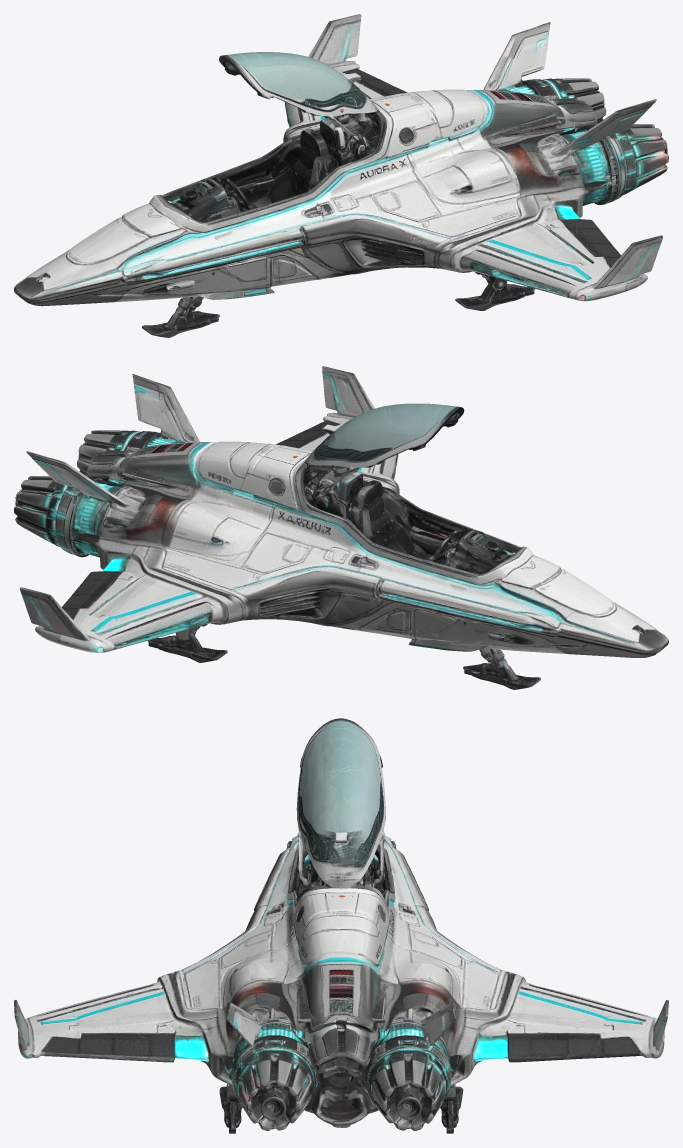
Rendered from ship.glb.
3 renders of one model, top to bottom at view 1: azimuth 30°, elevation 25°; view 2: azimuth 150°, elevation 25°; view 3: azimuth 270°, elevation 25°, orthographic. The views are drawn at different scales.
Visible parts, largest first — view 1: Mesh_0; view 2: Mesh_0; view 3: Mesh_0.
Boxes of the visible parts, left/top/right/bottom form: Mesh_0: left=14, top=14, right=668, bottom=337; Mesh_0: left=14, top=366, right=668, bottom=689; Mesh_0: left=14, top=718, right=668, bottom=1133.
Bounding box in the file's own units: 1.9 × 0.779 × 1.64.
1 material, 1 textured.
